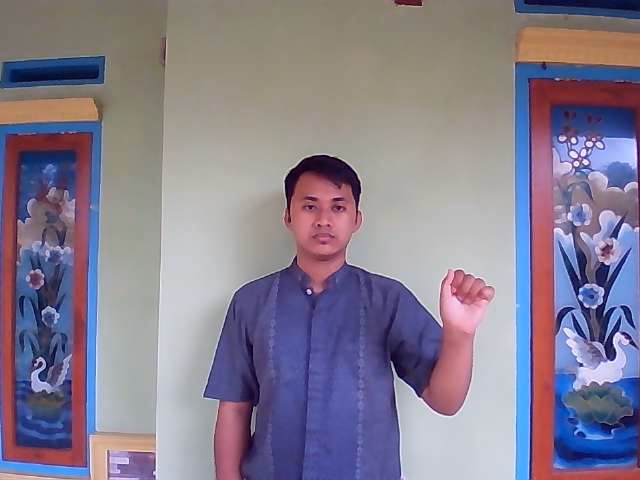A: (431, 261, 499, 338)
